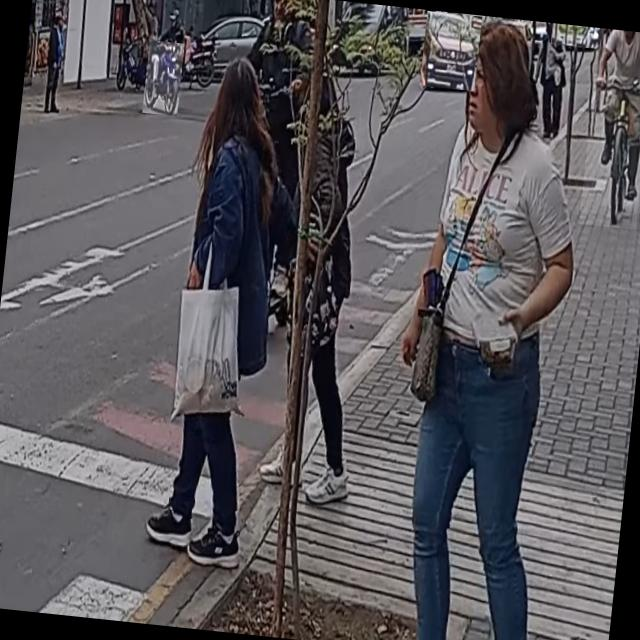bicycle: (578, 73, 640, 229)
bus: (550, 22, 601, 48)
car: (327, 0, 412, 77), (419, 10, 482, 90)
motorcycle: (142, 40, 184, 116)
